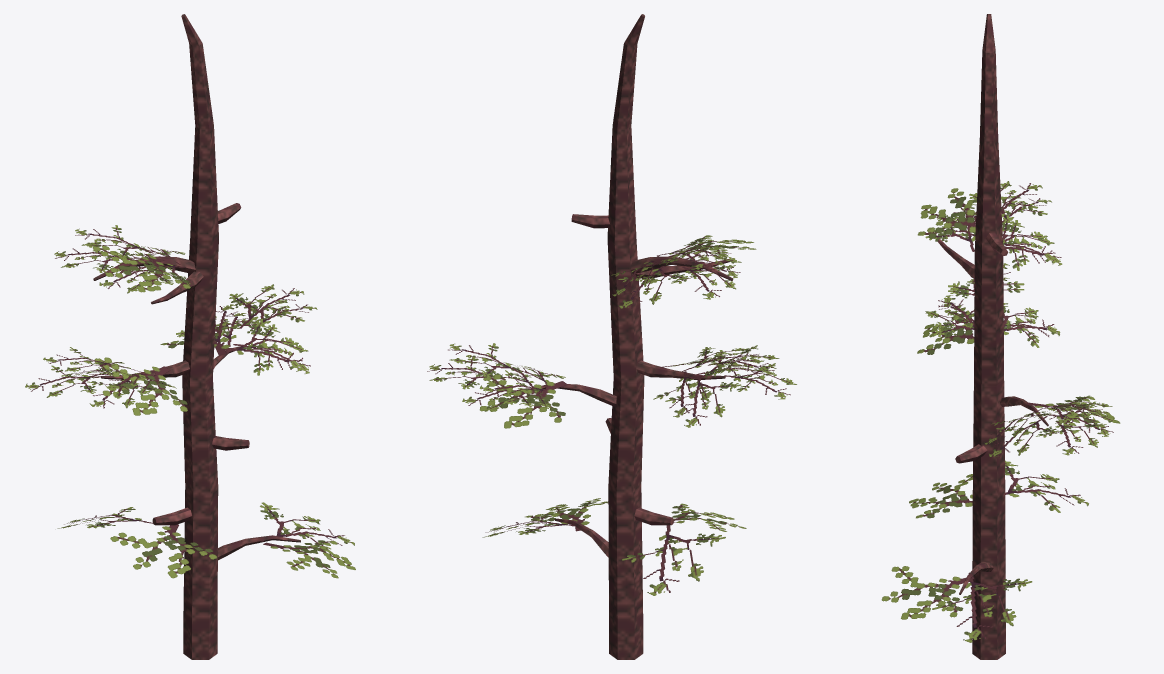
The model's file is tree_01.fbx.
The picture shows the model from 3 angles, left to right: view 1: azimuth 30°, elevation 25°; view 2: azimuth 150°, elevation 25°; view 3: azimuth 270°, elevation 25°; orthographic projection.
Visible parts, largest first — view 1: tree_01; view 2: tree_01; view 3: tree_01.
Boxes of the visible parts, x1=… form: tree_01: x1=25, y1=14, x2=355, y2=659; tree_01: x1=427, y1=14, x2=796, y2=659; tree_01: x1=881, y1=14, x2=1120, y2=659.
Bounding box in the file's own units: 2226 × 4141 × 1821.
1 material, 1 textured.
